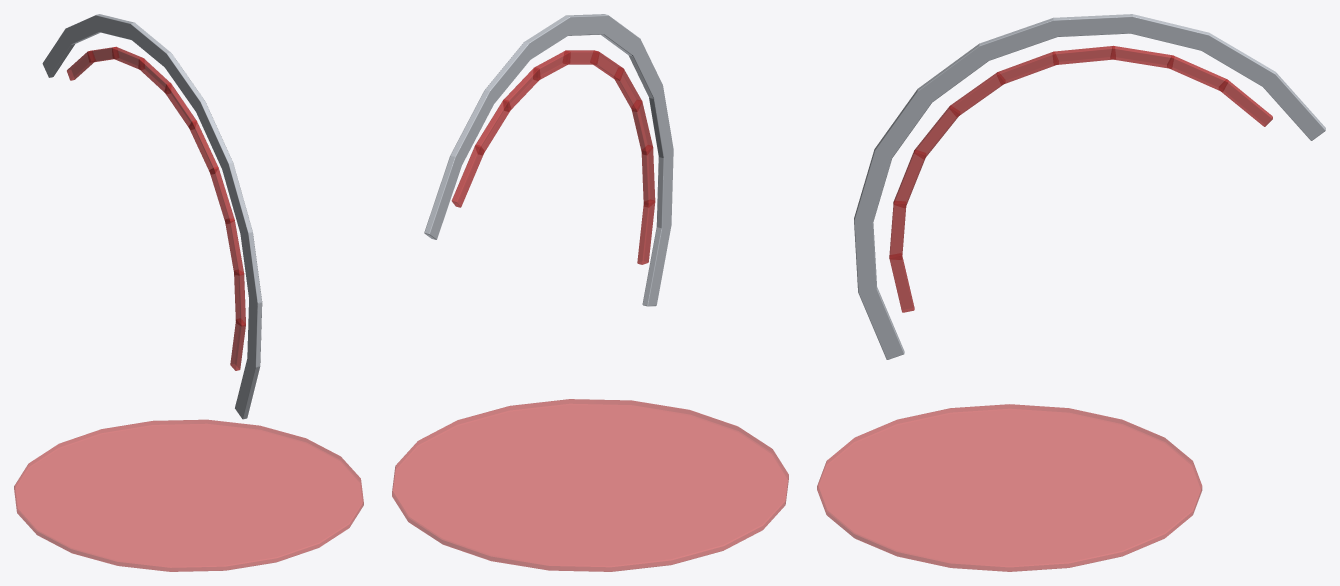
Rendered from cleave_leap.glb.
3 views of the same model, side by side, from view 1: azimuth 30°, elevation 25°; view 2: azimuth 150°, elevation 25°; view 3: azimuth 270°, elevation 25° (orthographic). The views are drawn at different scales.
Parts seen in each view (by area): view 1: impact, slash_arc_3, slash_arc_4, slash_arc_2, slash_arc_1, slash_arc_5, slash_arc_0, slash_arc_6, slash_arc_9, slash_arc_7, slash_arc_8, slash_trail_3 (+6 smaller); view 2: impact, slash_arc_9, slash_arc_0, slash_arc_8, slash_arc_1, slash_arc_7, slash_arc_2, slash_arc_6, slash_arc_3, slash_arc_5, slash_arc_4, slash_trail_0 (+9 smaller); view 3: impact, slash_arc_6, slash_arc_7, slash_arc_5, slash_arc_8, slash_arc_4, slash_arc_9, slash_arc_3, slash_arc_0, slash_arc_1, slash_arc_2, slash_trail_7 (+9 smaller).
Boxes of the visible parts, x1,y1,x2,y2 form: impact: (14, 419, 363, 571); slash_arc_3: (221, 162, 252, 234); slash_arc_4: (195, 100, 232, 171); slash_arc_2: (240, 231, 262, 303); slash_arc_1: (247, 296, 262, 367); slash_arc_5: (163, 52, 204, 112); slash_arc_0: (235, 356, 260, 419); slash_arc_6: (130, 23, 170, 66); slash_arc_9: (42, 29, 74, 77); slash_arc_7: (95, 14, 134, 39); slash_arc_8: (65, 15, 100, 44); slash_trail_3: (209, 167, 234, 223); impact: (392, 399, 788, 571); slash_arc_9: (424, 155, 462, 239); slash_arc_0: (642, 224, 671, 306); slash_arc_8: (450, 89, 494, 165); slash_arc_1: (656, 150, 673, 230); slash_arc_7: (484, 42, 532, 104); slash_arc_2: (649, 85, 673, 157); slash_arc_6: (524, 15, 570, 60); slash_arc_3: (628, 39, 662, 99); slash_arc_5: (566, 14, 608, 35); slash_arc_4: (601, 15, 640, 56); slash_trail_0: (637, 199, 655, 264); impact: (817, 404, 1202, 571); slash_arc_6: (1053, 14, 1133, 36); slash_arc_7: (1128, 14, 1209, 50); slash_arc_5: (979, 18, 1059, 60); slash_arc_8: (1200, 33, 1275, 87); slash_arc_4: (917, 43, 990, 102); slash_arc_9: (1262, 72, 1325, 140); slash_arc_3: (874, 89, 932, 160); slash_arc_0: (858, 287, 904, 359); slash_arc_1: (854, 220, 876, 292); slash_arc_2: (854, 149, 891, 222); slash_trail_7: (1110, 46, 1173, 68).
Bounding box in the file's own units: 1.2 × 1.64 × 1.58.
